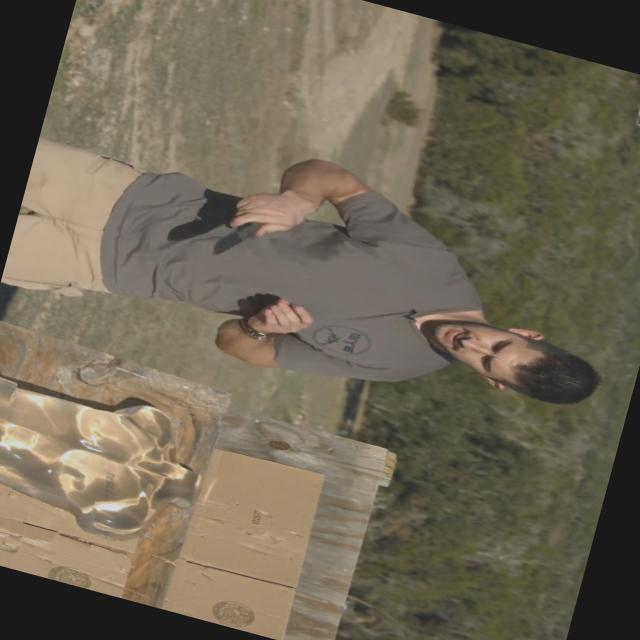knife: (204, 176, 303, 276)
